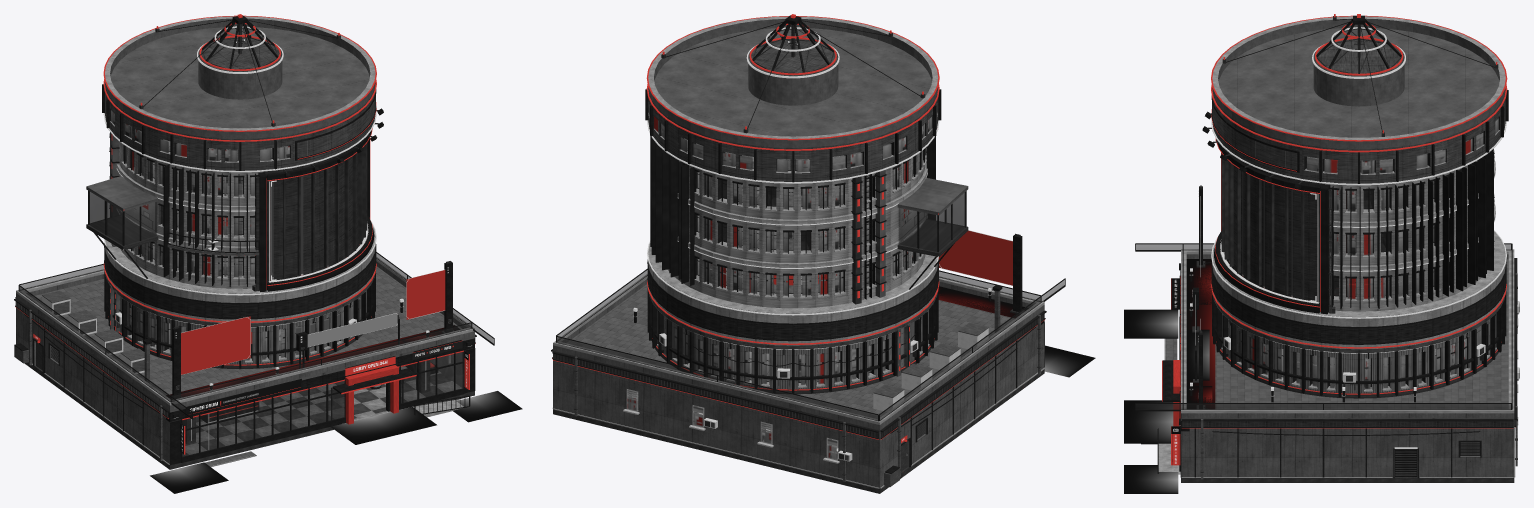
File: cipherdrum-C3Ojjdho.glb
3 renders of one model, left to right at view 1: azimuth 30°, elevation 25°; view 2: azimuth 150°, elevation 25°; view 3: azimuth 270°, elevation 25°, orthographic. The views are drawn at different scales.
Parts seen in each view (by area): view 1: body, glass, farBaked, glow, add, sign_fascia_1; view 2: body, farBaked, glow, glass, add; view 3: body, glow, add, farBaked, glass.
Boxes of the visible parts, left/top/right/bottom form: body: left=14, top=15, right=494, bottom=469; glass: left=19, top=191, right=493, bottom=456; farBaked: left=37, top=33, right=461, bottom=450; glow: left=15, top=14, right=475, bottom=466; add: left=150, top=228, right=522, bottom=493; sign_fascia_1: left=187, top=380, right=300, bottom=414; body: left=551, top=15, right=1065, bottom=493; farBaked: left=627, top=34, right=1012, bottom=459; glow: left=552, top=14, right=1044, bottom=455; glass: left=557, top=181, right=1064, bottom=420; add: left=938, top=286, right=1095, bottom=377; body: left=1135, top=15, right=1519, bottom=482; glow: left=1162, top=14, right=1515, bottom=464; add: left=1124, top=247, right=1319, bottom=493; farBaked: left=1189, top=46, right=1505, bottom=428; glass: left=1135, top=191, right=1510, bottom=409.
Size of the model in its own units: 30.6 by 30.95 by 27.79.
Materials: 6 (6 with a texture image).
